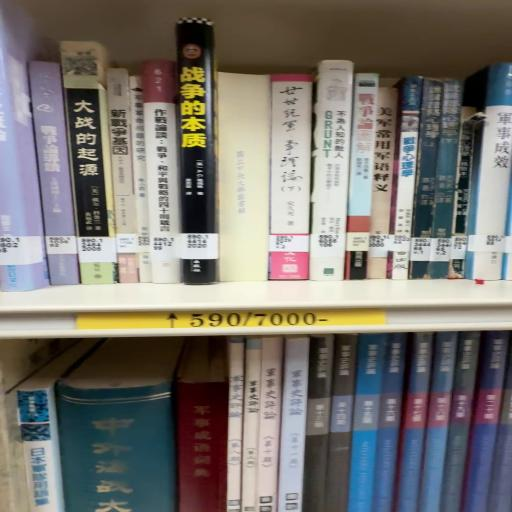backward: (216, 76, 272, 286)
book: (24, 56, 76, 283), (310, 58, 355, 280), (180, 18, 222, 242), (272, 76, 316, 286), (469, 59, 509, 234), (276, 339, 310, 512), (256, 339, 285, 512)
